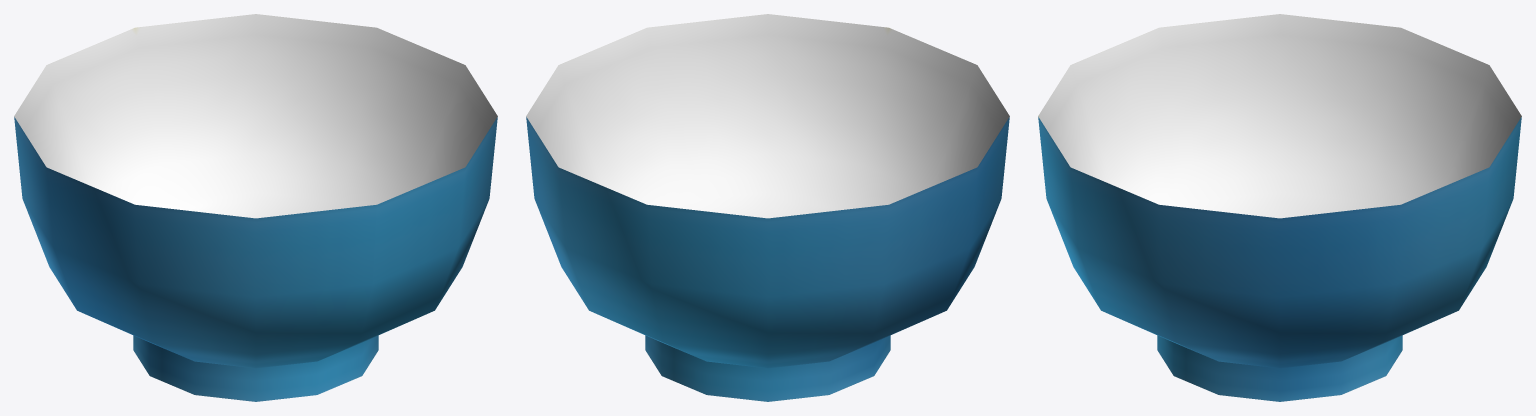
Rendered from jsf_Bowl_05.fbx.
The picture shows the model from 3 angles, left to right: view 1: azimuth 30°, elevation 25°; view 2: azimuth 150°, elevation 25°; view 3: azimuth 270°, elevation 25°; orthographic projection.
Parts seen in each view (by area): view 1: jsf_Bowl_05; view 2: jsf_Bowl_05; view 3: jsf_Bowl_05.
Part boxes in pixels (x1,y1,x2,y2): jsf_Bowl_05: [14, 14, 497, 401]; jsf_Bowl_05: [526, 14, 1009, 401]; jsf_Bowl_05: [1038, 14, 1521, 401].
Bounding box in the file's own units: 11.25 × 6 × 11.25.
